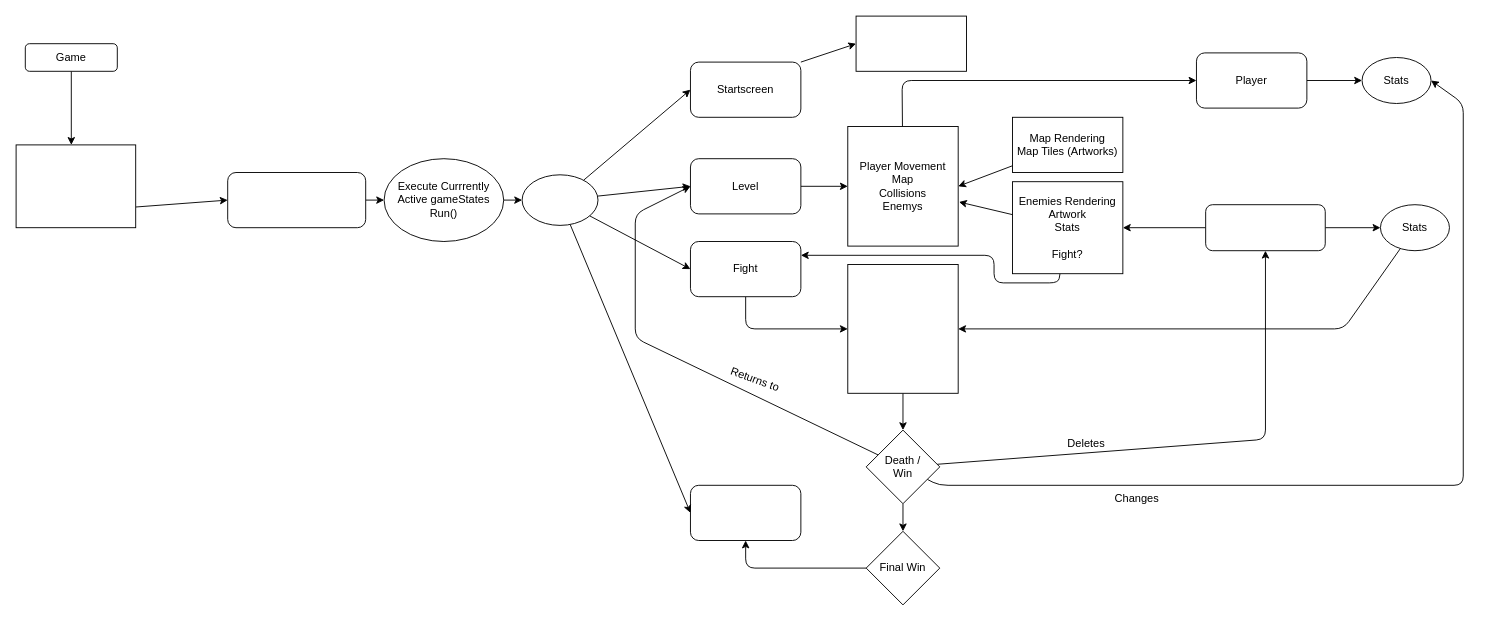
The diagram is 1487 pixels wide and 621 high, and some of its shapes have lost their labels. Here are the shapes that lost their labels. From the top down, the centre of each, then its label:
At pixel 910 43: "StartScreen Image".
At pixel 75 186: "Pygame Inhalte Gamestate Main Run()".
At pixel 296 200: "GameStateManager".
At pixel 559 199: "Run()".
At pixel 1265 227: "Enemy".
At pixel 902 328: "No Movement Static View Attacks take turns".
At pixel 745 512: "Endscreen".
